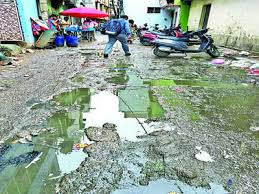potholes: (77, 119, 158, 180)
